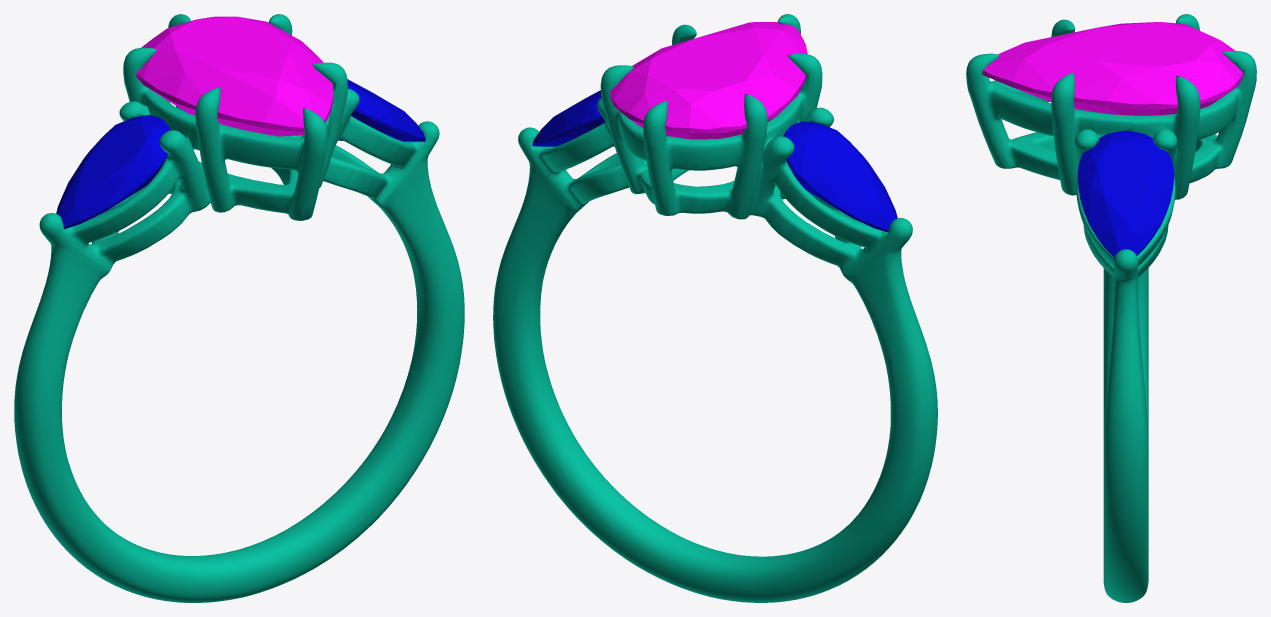
Rendered from BE1D9008_PE_200ct_RENDER.glb.
The picture shows the model from 3 angles, left to right: view 1: azimuth 30°, elevation 25°; view 2: azimuth 150°, elevation 25°; view 3: azimuth 270°, elevation 25°; orthographic projection.
Visible parts, largest first — view 1: Metal 01, CS_Diamond_Pear, Diamond_Pear_side.001, Diamond_Pear_side; view 2: Metal 01, CS_Diamond_Pear, Diamond_Pear_side.001, Diamond_Pear_side; view 3: Metal 01, CS_Diamond_Pear, Diamond_Pear_side.
Boxes of the visible parts, x1,y1,x2,y2 form: Metal 01: (14, 14, 464, 602); CS_Diamond_Pear: (136, 16, 333, 136); Diamond_Pear_side.001: (56, 115, 170, 228); Diamond_Pear_side: (338, 79, 425, 141); Metal 01: (493, 14, 937, 602); CS_Diamond_Pear: (610, 22, 807, 139); Diamond_Pear_side.001: (783, 121, 897, 232); Diamond_Pear_side: (532, 90, 614, 146); Metal 01: (966, 14, 1256, 602); CS_Diamond_Pear: (982, 22, 1243, 115); Diamond_Pear_side: (1077, 130, 1174, 257).
Bounding box in the file's own units: 20.1 × 23.61 × 11.62.
